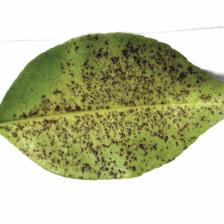canker: (85, 72, 179, 153)
